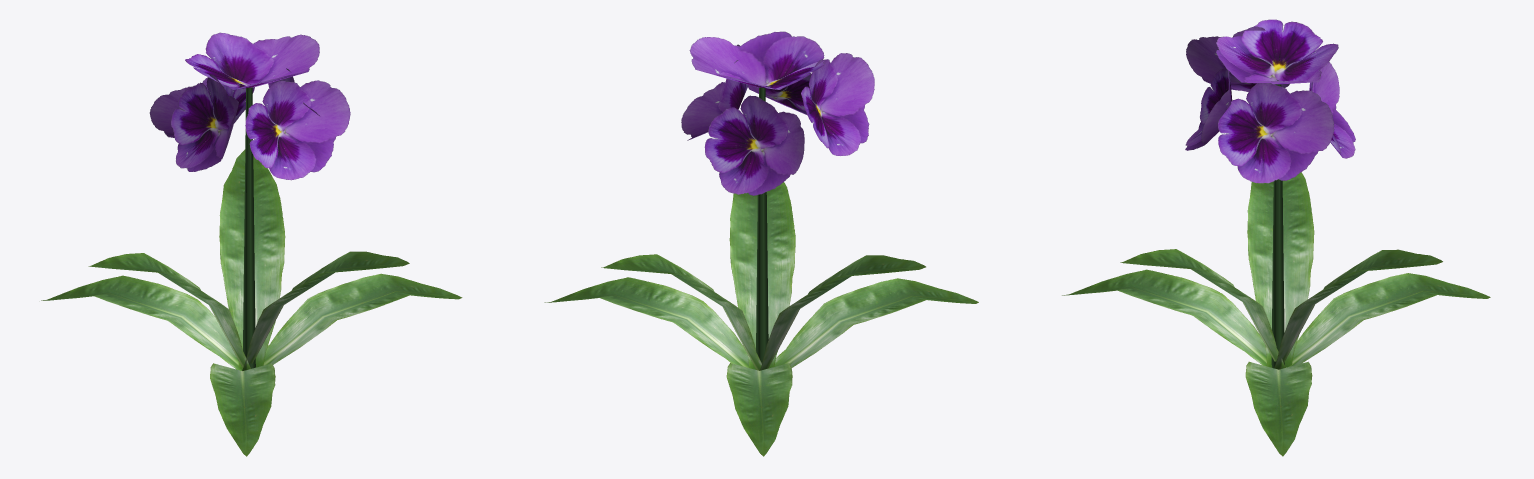
File: flower plant7.FBX
3 views of the same model, side by side, from view 1: azimuth 30°, elevation 25°; view 2: azimuth 150°, elevation 25°; view 3: azimuth 270°, elevation 25° (orthographic).
Visible parts, largest first — view 1: Cylinder001; view 2: Cylinder001; view 3: Cylinder001.
Boxes of the visible parts, x1=… form: Cylinder001: x1=41, y1=32, x2=462, y2=456; Cylinder001: x1=544, y1=31, x2=978, y2=456; Cylinder001: x1=1062, y1=19, x2=1490, y2=456.
Bounding box in the file's own units: 4.67 × 3.75 × 4.85.
